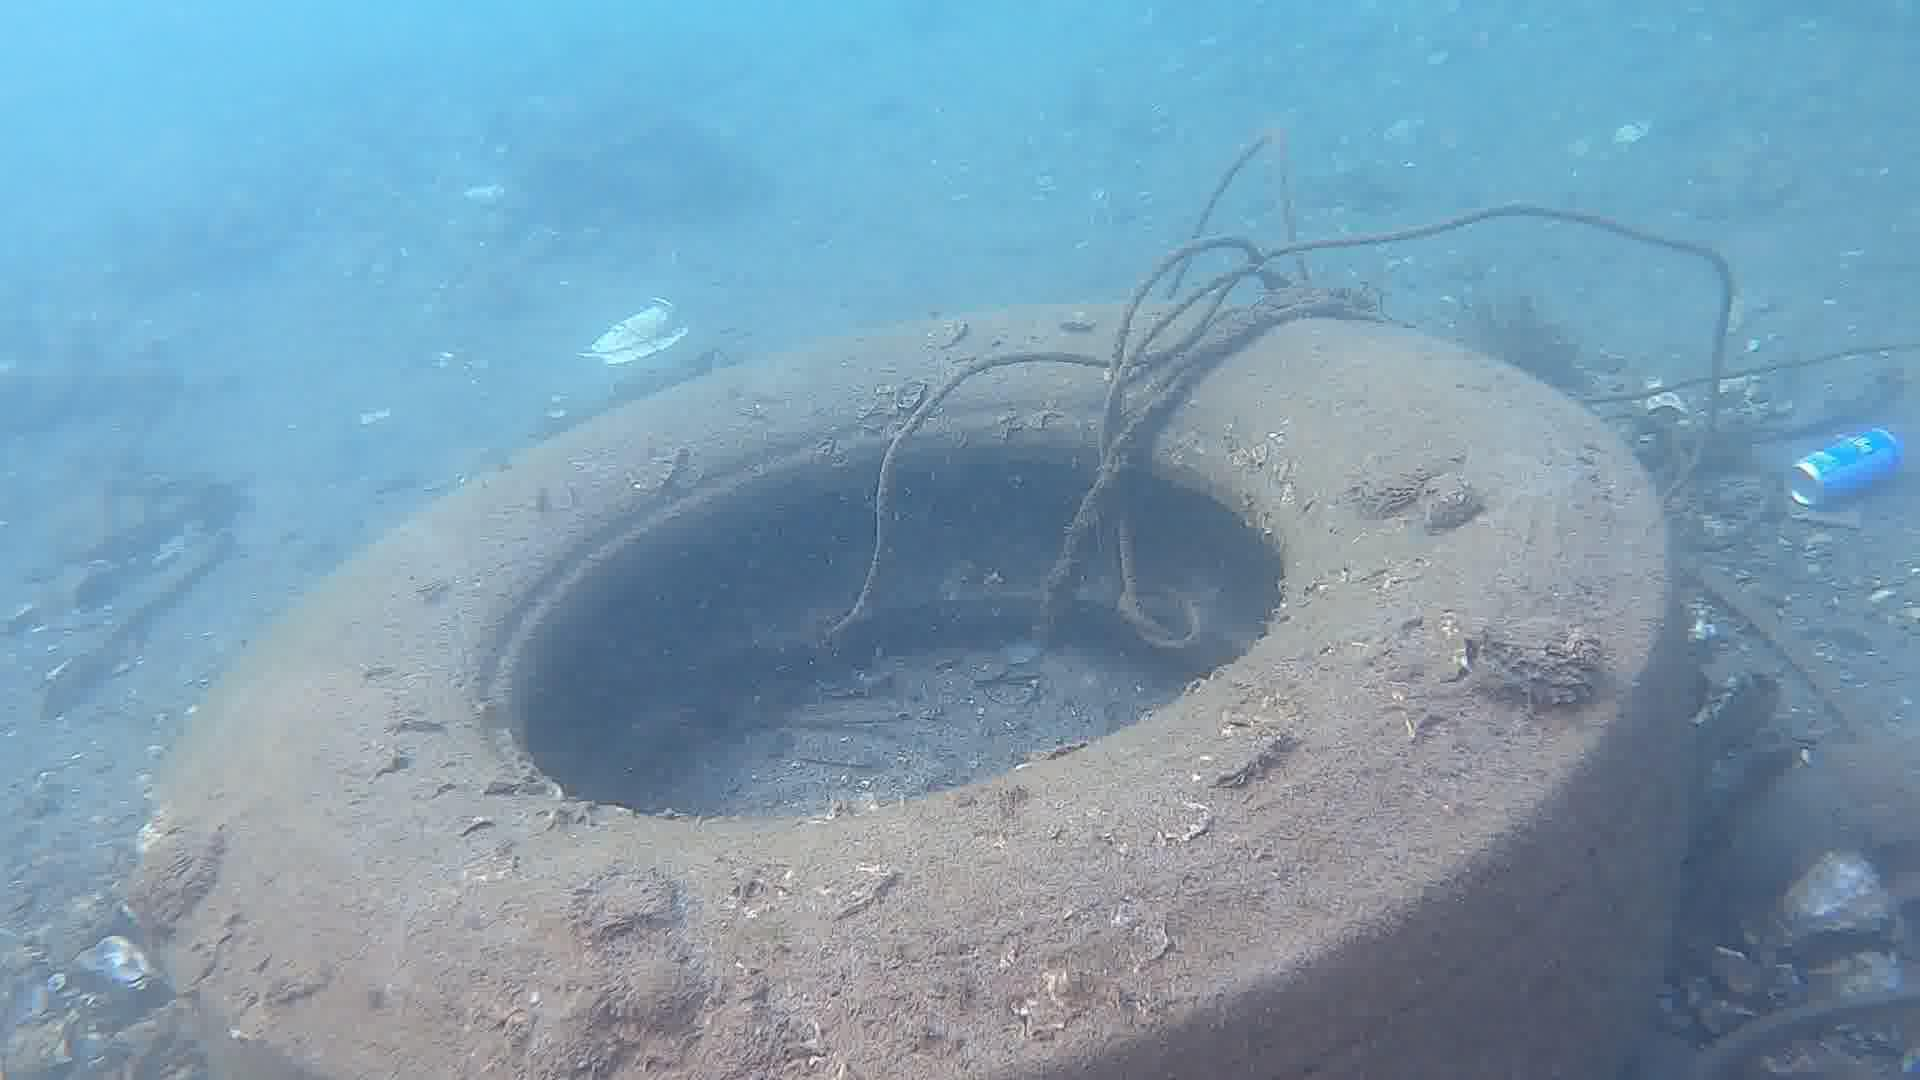bundle of ropes: (829, 125, 1731, 647)
tire: (141, 299, 1691, 1080)
